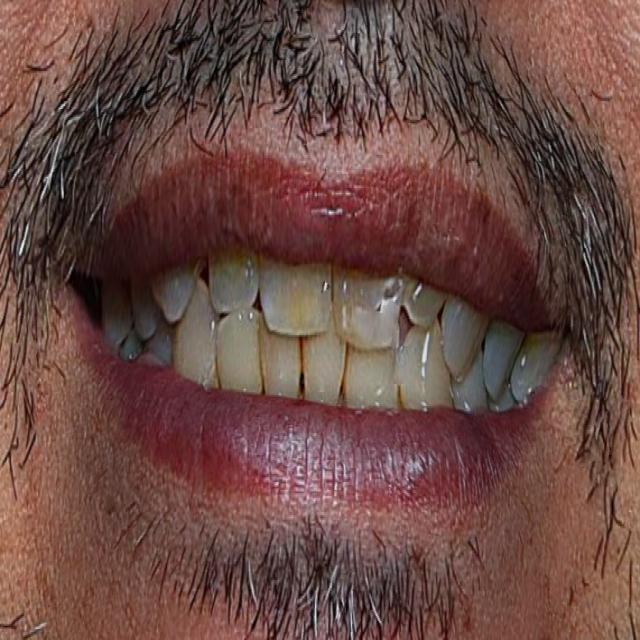11: (260, 260, 331, 335)
12: (209, 258, 257, 311)
13: (153, 267, 196, 324)
14: (132, 284, 161, 342)
15: (104, 287, 133, 350)
21: (333, 271, 407, 349)
22: (402, 281, 446, 326)
23: (441, 297, 488, 382)
24: (484, 323, 524, 401)
25: (512, 332, 560, 405)
31: (303, 321, 347, 403)
32: (346, 349, 398, 409)
33: (397, 322, 451, 406)
34: (454, 349, 487, 408)
35: (491, 384, 516, 413)
41: (259, 324, 302, 397)
42: (216, 310, 263, 393)
43: (172, 280, 218, 387)
44: (144, 319, 172, 363)
45: (120, 326, 143, 359)
botom teeth: (73, 278, 546, 412)
top teeth: (74, 257, 568, 403)
